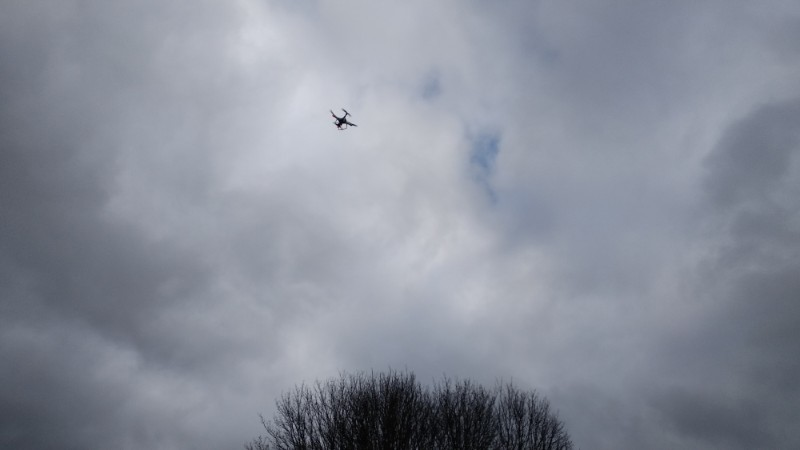drone: (326, 107, 360, 132)
